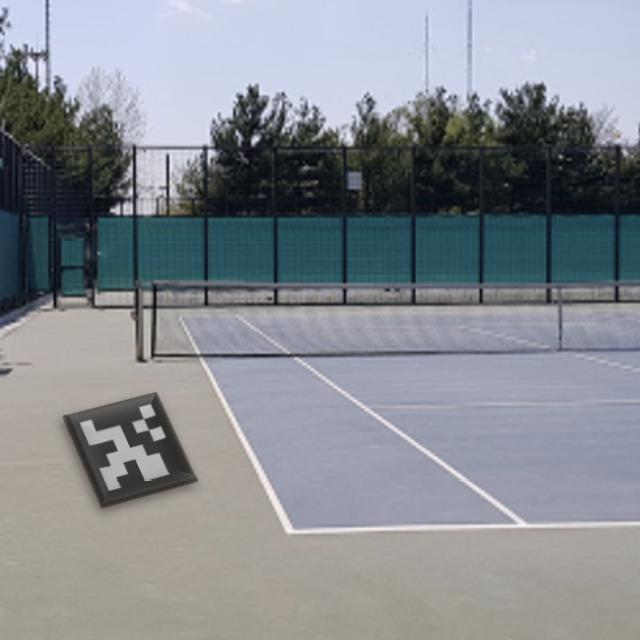marker: (58, 382, 205, 518)
